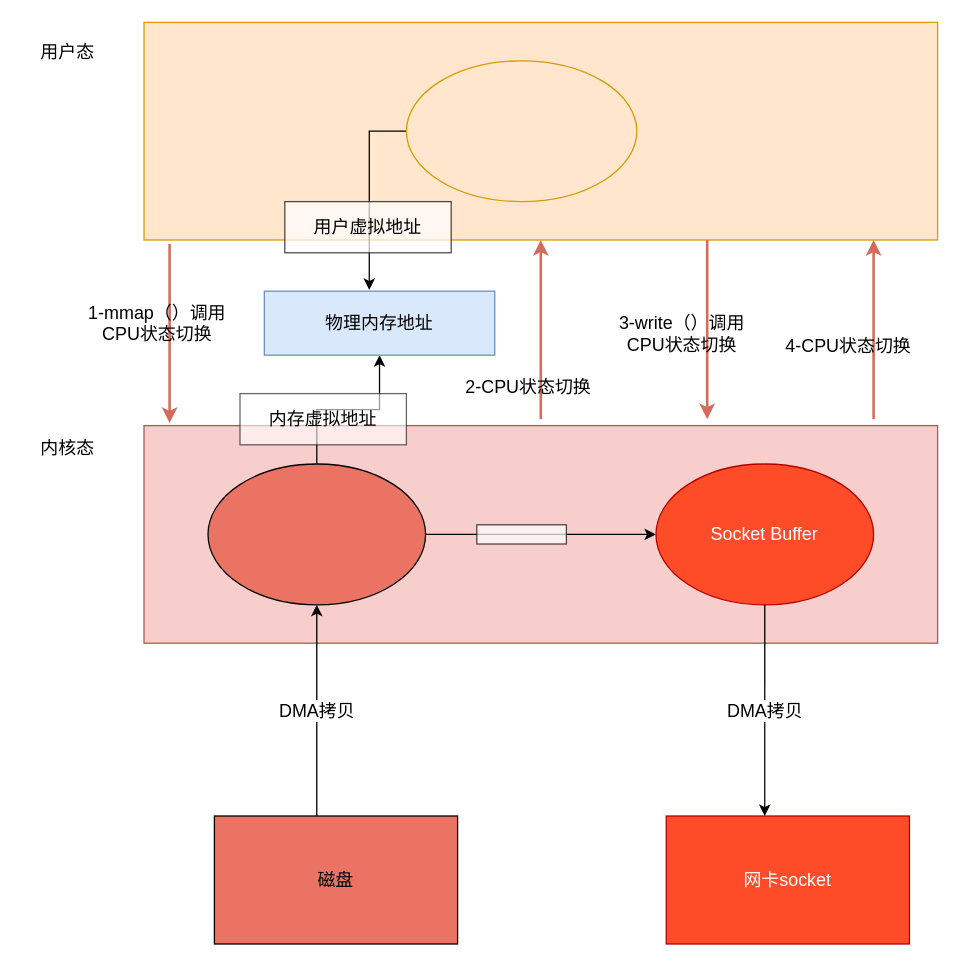
This 960x966 diagram has some shape labels left out. The shapes that lost their labels are listed below. From the top down, each one's centre as x and y in pixels, then its label:
point 521,131: 应用程序 User Buffer
point 316,534: Kernal Buffer
point 521,534: CPU拷贝
